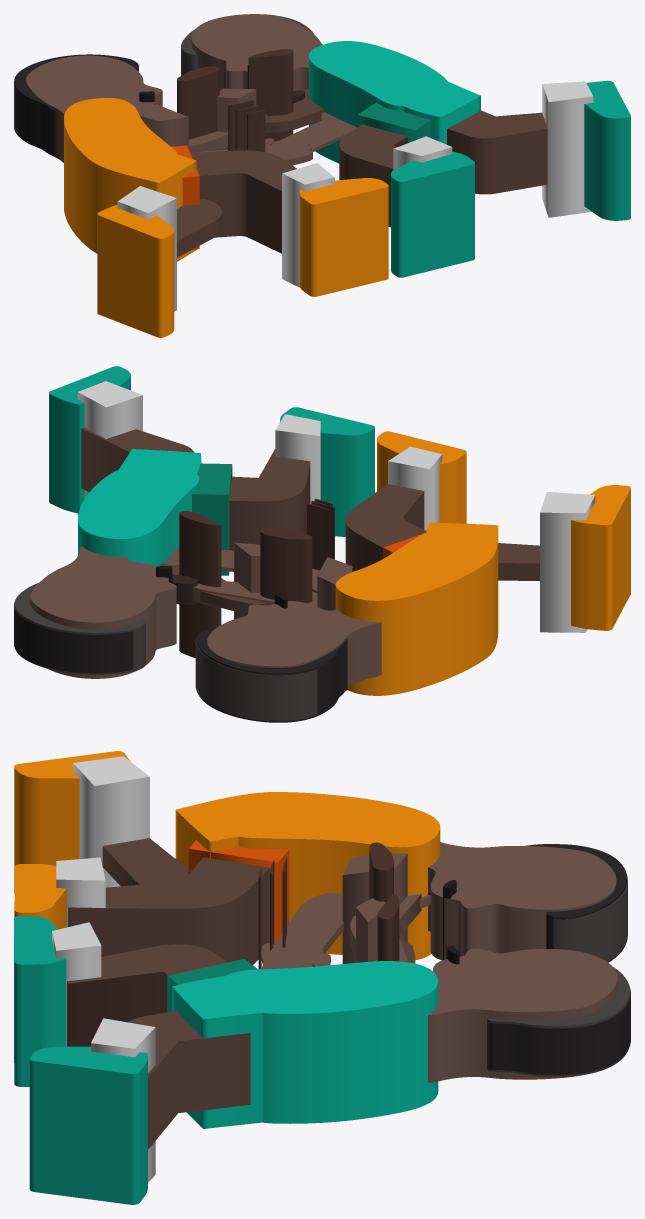
File: emoji_u1f93c_1f3ff_200d_2642.glb
3 views of the same model, one above another, from view 1: azimuth 30°, elevation 25°; view 2: azimuth 150°, elevation 25°; view 3: azimuth 270°, elevation 25° (orthographic). The views are drawn at different scales.
Parts seen in each view (by area): view 1: emoji_u1f93c_1f3ff_200d_2642; view 2: emoji_u1f93c_1f3ff_200d_2642; view 3: emoji_u1f93c_1f3ff_200d_2642.
Boxes of the visible parts, x1,y1,x2,y2 form: emoji_u1f93c_1f3ff_200d_2642: (14, 14, 630, 337); emoji_u1f93c_1f3ff_200d_2642: (14, 366, 630, 722); emoji_u1f93c_1f3ff_200d_2642: (14, 751, 630, 1204).
Size of the model in its own units: 0.033 by 0.008 by 0.0265.
